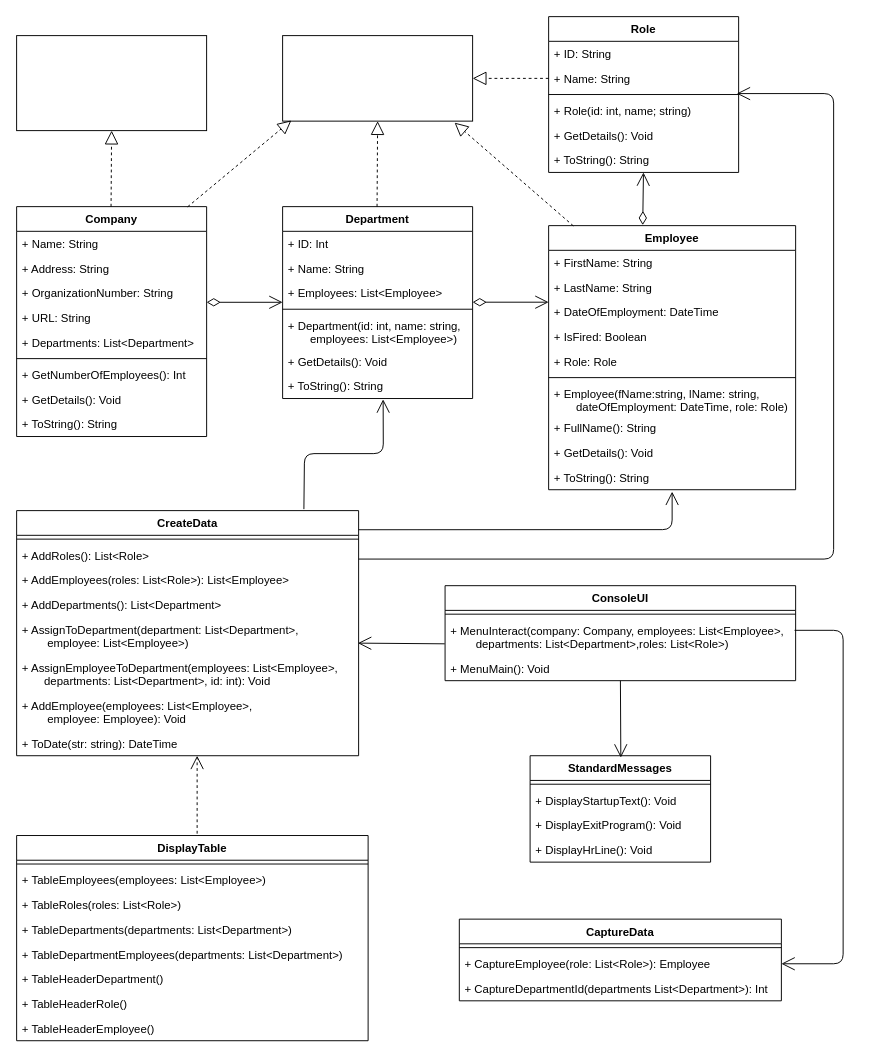
Image size: 873x1060. Some labels were removed from this diagram. Each missing label, with the centre of its shape:
<<Interface>> IGetDetails + GetDetails(): Void: pixel 377 78
<<Interface>> INumberOfEmployees + GetNumberOfEmployees(): Int: pixel 111 83
